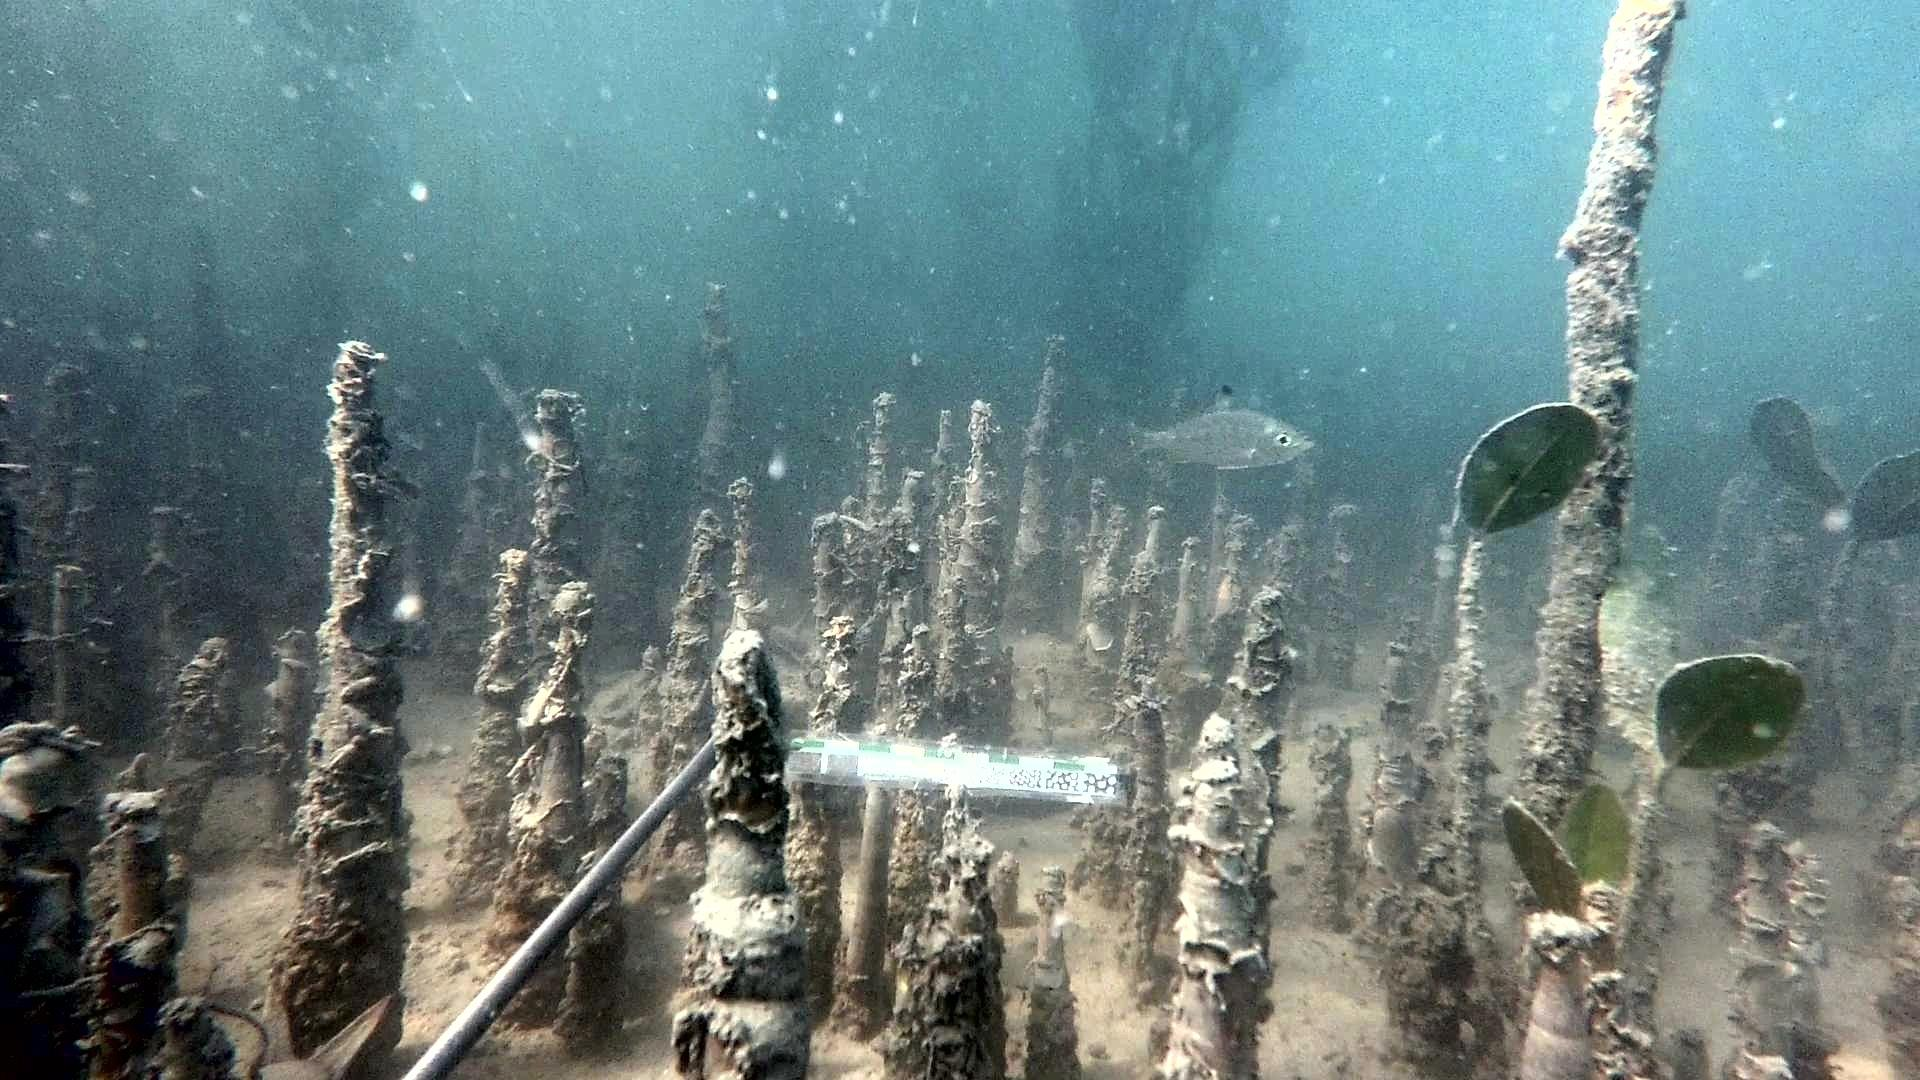gerres: (1108, 382, 1317, 473)
